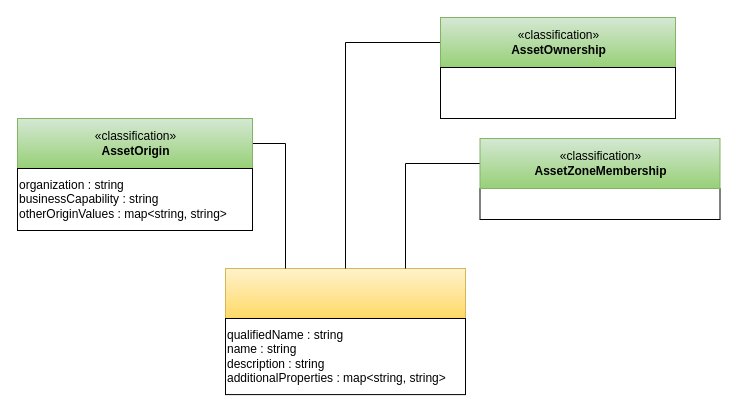
Some shapes in this 738 by 413 pixel diagram are drawn without their labels. Here are the shapes that lost their labels. From the top down, the centre of each, then its label:
At pixel 558 92: "owner : string ownerType : OwnerType".
At pixel 599 204: "zoneMembership : array<string>".
At pixel 345 293: "«entity» Asset".
